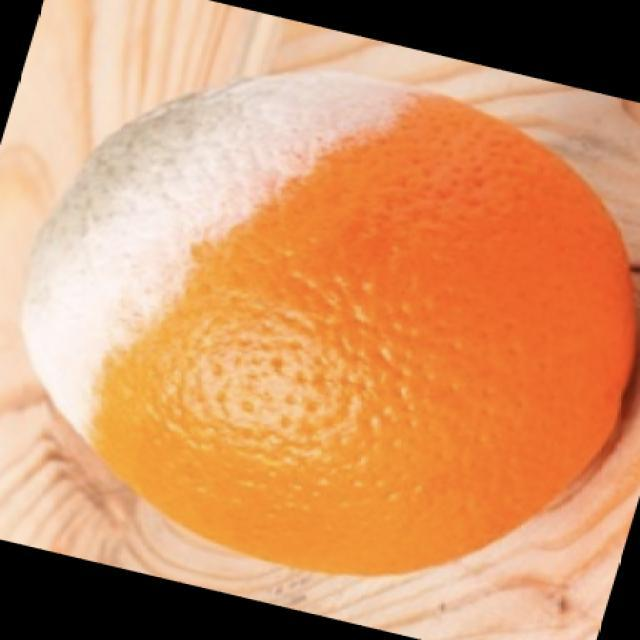sedikit-busuk: (23, 73, 632, 570)
